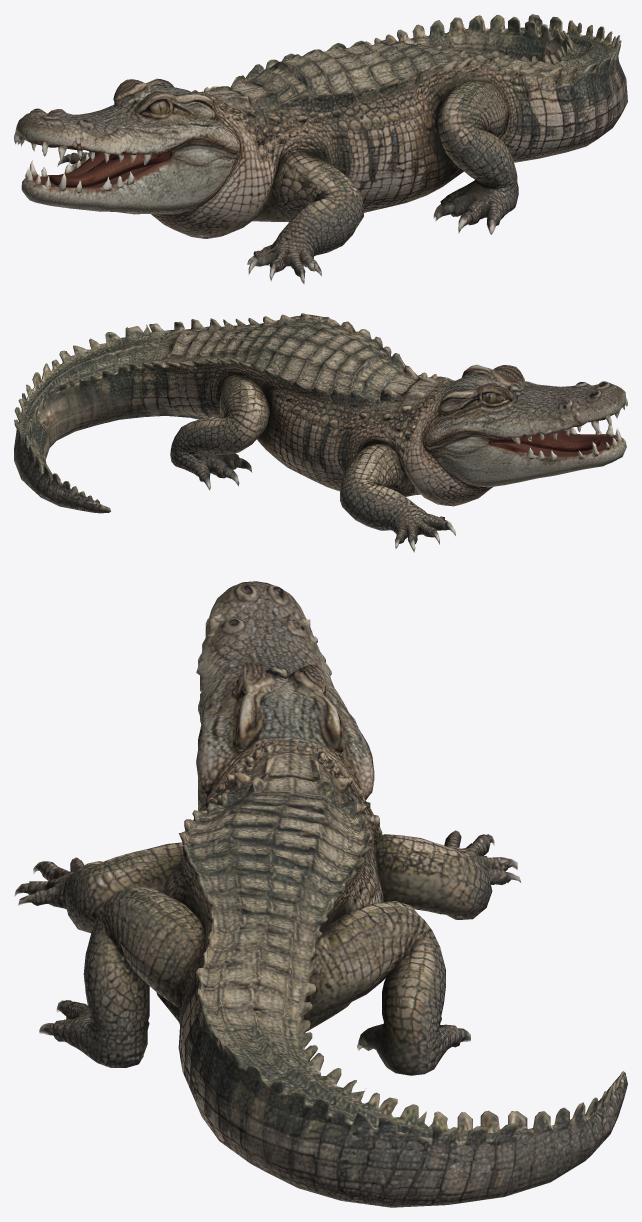
The model's file is crocodile.glb.
3 renders of one model, top to bottom at view 1: azimuth 30°, elevation 25°; view 2: azimuth 150°, elevation 25°; view 3: azimuth 270°, elevation 25°, orthographic. The views are drawn at different scales.
Parts seen in each view (by area): view 1: Model_0; view 2: Model_0; view 3: Model_0.
Part boxes in pixels (box(x1,y1,x2,y2)): Model_0: box(14, 14, 627, 284); Model_0: box(14, 313, 627, 552); Model_0: box(14, 581, 627, 1207).
Size of the model in its own units: 1 by 0.2603 by 0.6204.
Materials: 1 (1 with a texture image).
